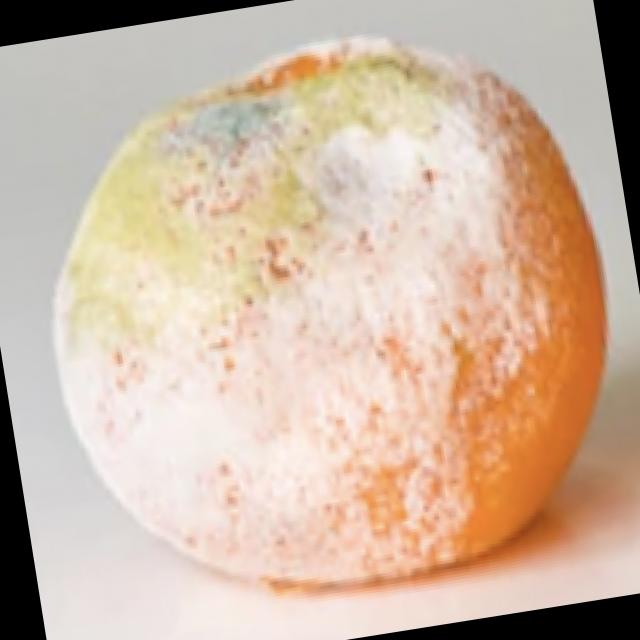rotten-orange: (13, 2, 640, 630)
